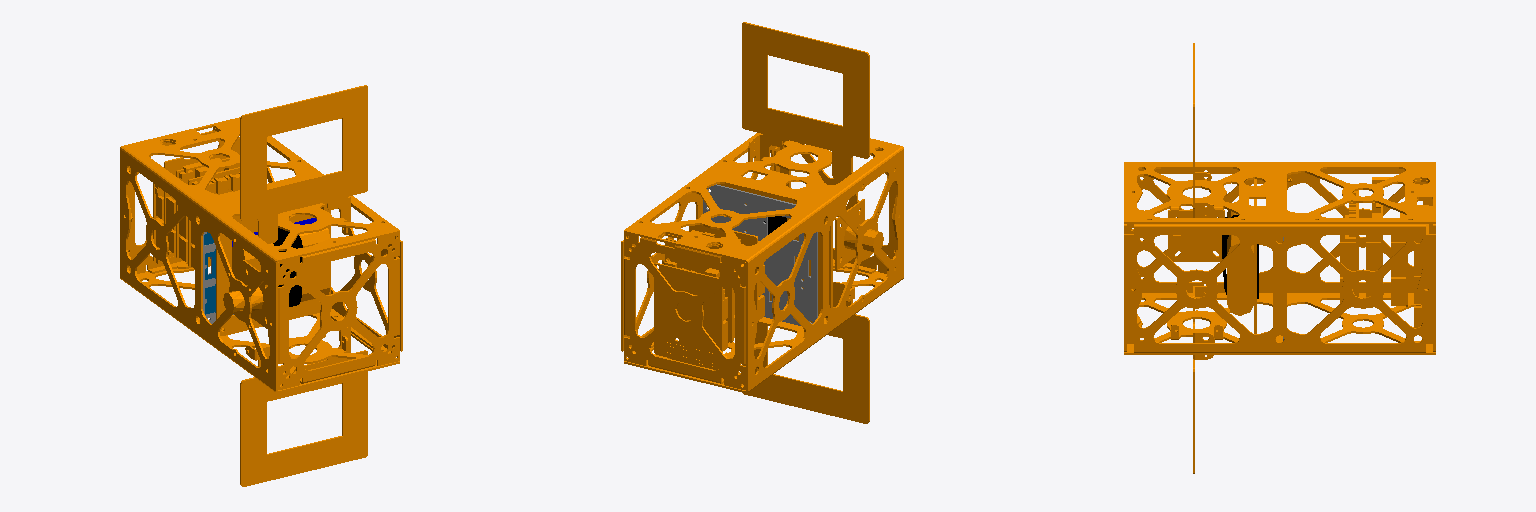
Rendered from bracket_box_2_0.obj.
3 views of the same model, side by side, from view 1: azimuth 30°, elevation 25°; view 2: azimuth 150°, elevation 25°; view 3: azimuth 270°, elevation 25° (orthographic).
Parts seen in each view (by area): view 1: 44, 18, 43, 1, 2, 34, 33, 5, 3, 17, 7, 6 (+2 smaller); view 2: 44, 18, 3, 43, 40, 6, 5, 2, 1, 21, 7, 17; view 3: 44, 2, 34, 5, 7, 17, 18, 43, 6.
Boxes of the visible parts, <box> form: 44: <box>120,117,399,392</box>; 18: <box>240,85,367,243</box>; 43: <box>240,327,367,486</box>; 1: <box>278,233,399,389</box>; 2: <box>267,144,402,357</box>; 34: <box>232,228,330,301</box>; 33: <box>217,202,330,335</box>; 5: <box>223,260,269,328</box>; 3: <box>128,127,239,273</box>; 17: <box>188,167,239,268</box>; 7: <box>164,148,231,252</box>; 6: <box>153,183,181,264</box>; 44: <box>624,133,903,392</box>; 18: <box>742,22,869,180</box>; 3: <box>624,233,745,389</box>; 43: <box>742,282,869,423</box>; 40: <box>703,184,817,325</box>; 6: <box>654,261,727,369</box>; 5: <box>835,199,883,270</box>; 2: <box>621,145,776,357</box>; 1: <box>774,139,895,273</box>; 21: <box>717,184,832,317</box>; 7: <box>665,238,734,342</box>; 17: <box>689,225,764,323</box>; 44: <box>1124,162,1435,354</box>; 2: <box>1124,224,1435,352</box>; 34: <box>1227,205,1253,315</box>; 5: <box>1168,210,1224,261</box>; 7: <box>1391,213,1407,306</box>; 17: <box>1340,190,1358,303</box>; 18: <box>1193,43,1214,217</box>; 43: <box>1193,286,1214,473</box>; 6: <box>1414,205,1428,327</box>.
Size of the model in its own units: 10.85 by 27.95 by 21.32.